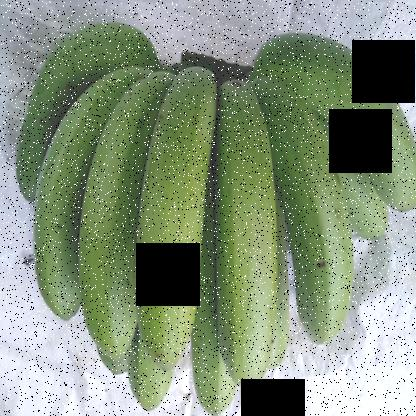freshunripe: (254, 60, 364, 362), (131, 44, 222, 374), (73, 47, 165, 366), (23, 55, 124, 336), (278, 38, 415, 217), (208, 66, 281, 397)
